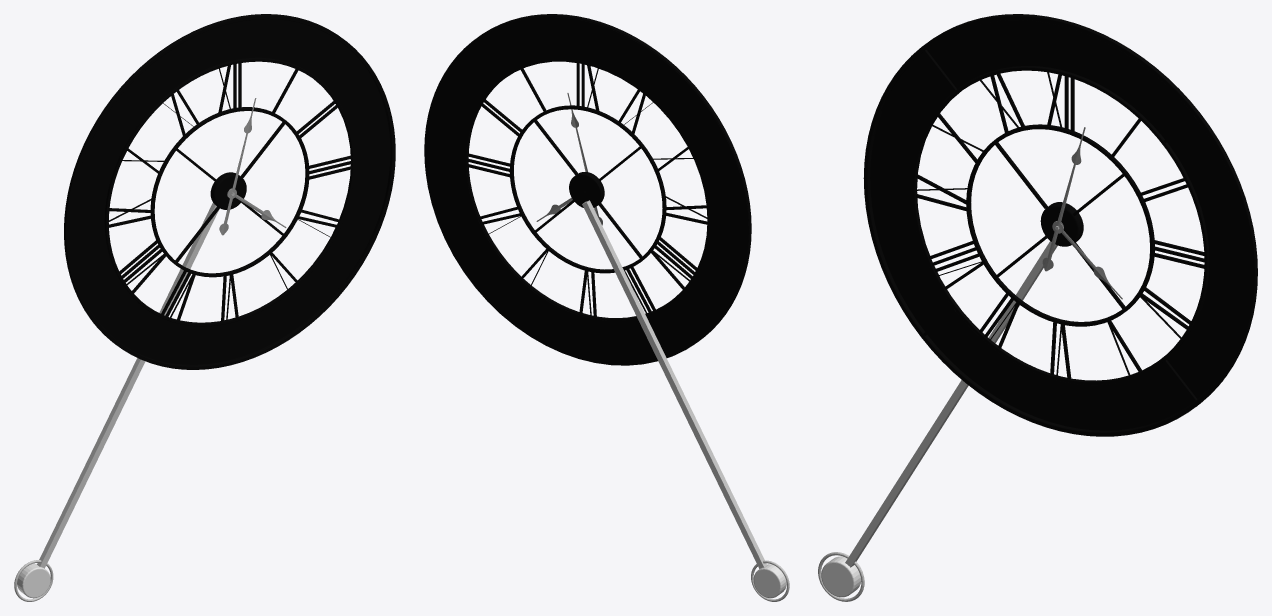
File: clock.fbx
The picture shows the model from 3 angles, left to right: view 1: azimuth 30°, elevation 25°; view 2: azimuth 150°, elevation 25°; view 3: azimuth 330°, elevation 25°; orthographic projection. The views are drawn at different scales.
Parts seen in each view (by area): view 1: Pendule_obj, 立方体, 圆柱; view 2: Pendule_obj, 立方体, 圆柱; view 3: Pendule_obj, 立方体, 圆柱.
Boxes of the visible parts, x1,y1,x2,y2 form: Pendule_obj: (64,14,395,369); 立方体: (37,203,219,568); 圆柱: (17,563,50,598); Pendule_obj: (424,14,751,365); 立方体: (582,200,766,568); 圆柱: (753,564,786,598); Pendule_obj: (863,14,1257,436); 立方体: (845,241,1057,567); 圆柱: (821,556,861,597).
Bounding box in the file's own units: 102 × 141 × 5.84.
Materials: 5 (2 with a texture image).
